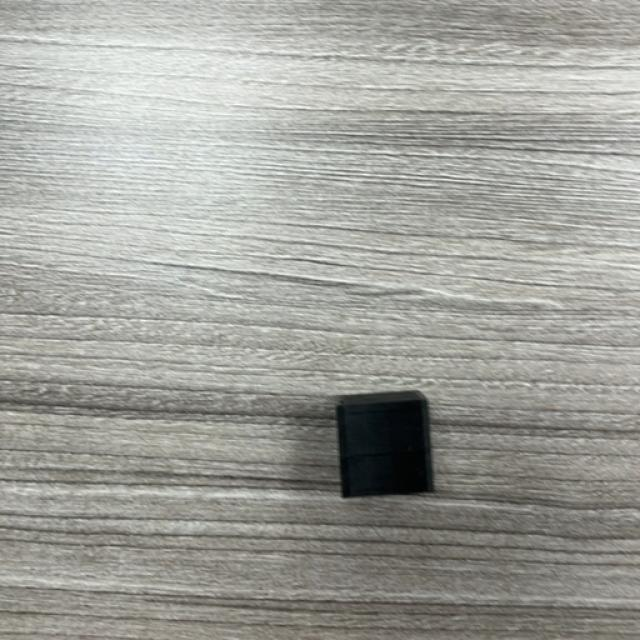Negro: (335, 391, 435, 500)
